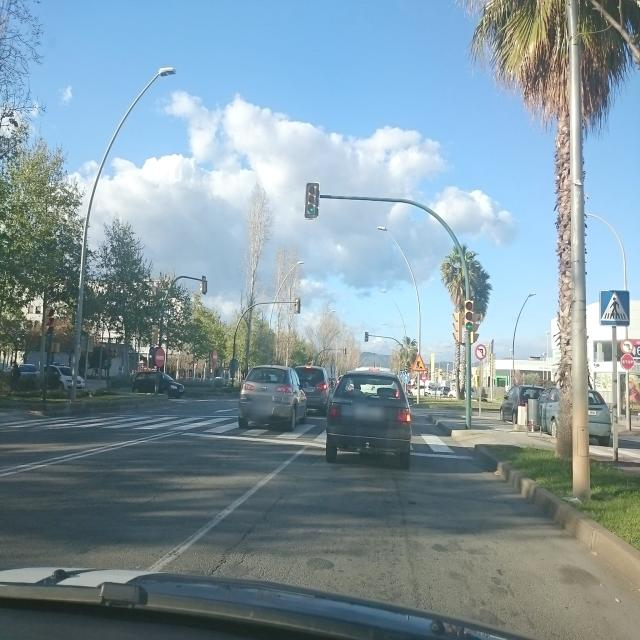car: (324, 366, 412, 467), (538, 385, 614, 446), (238, 364, 307, 431), (293, 364, 332, 416), (500, 383, 538, 425), (131, 370, 185, 399), (51, 365, 86, 390), (429, 385, 450, 398), (409, 385, 431, 397), (447, 389, 457, 398)
